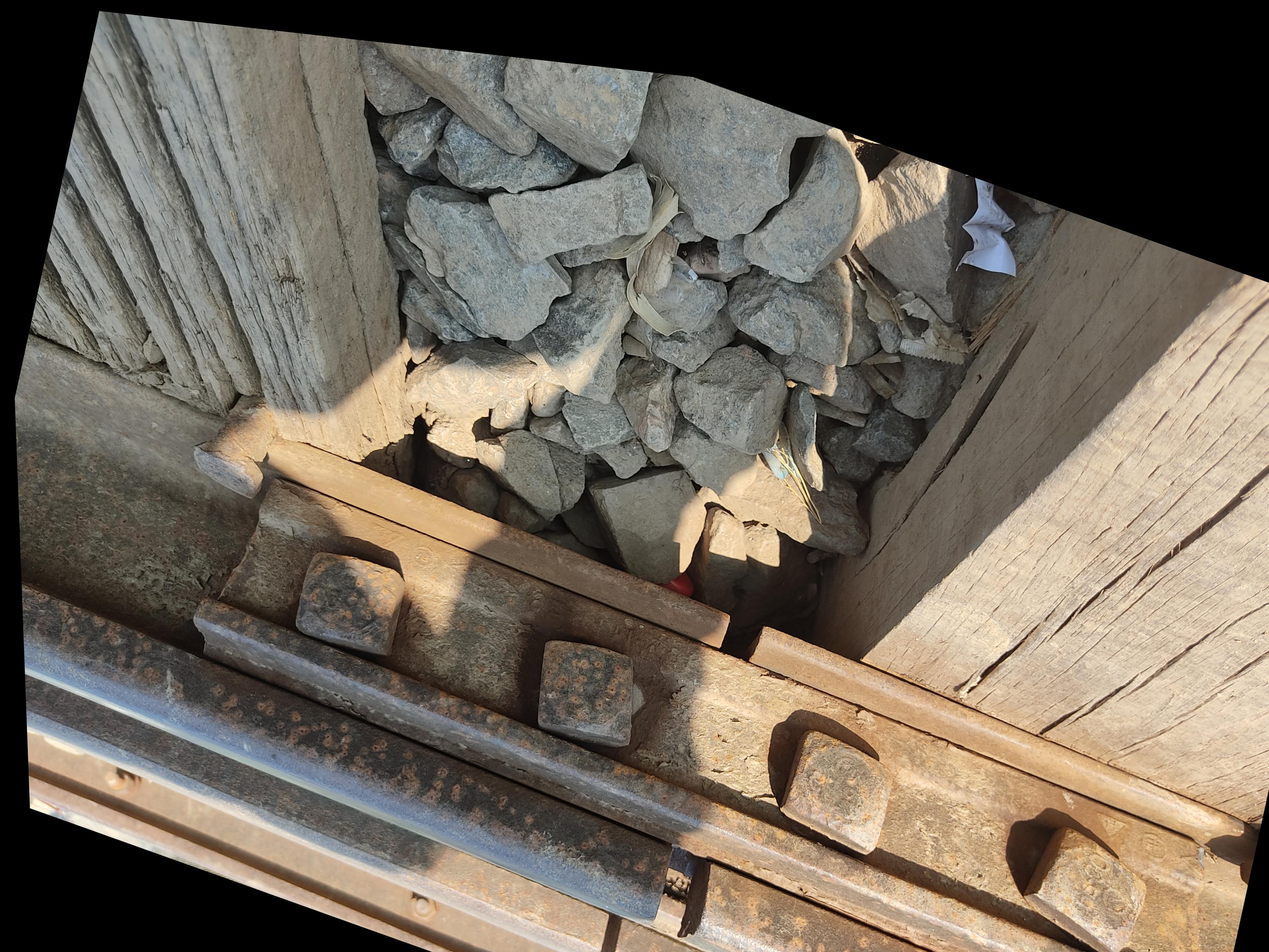person: (270, 784, 348, 862), (310, 665, 371, 728), (247, 829, 295, 878), (240, 861, 270, 890)
